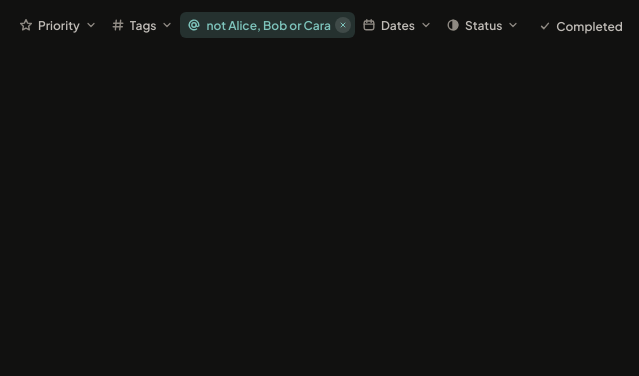
it: the top bar’s People picker: Email check-in for an "is not" filter › is not everyone: nobody to email, a hint
This screenshot has width=639, height=376.
Click the button with aria-label "People filter": [258, 25] box [180,12,335,38]
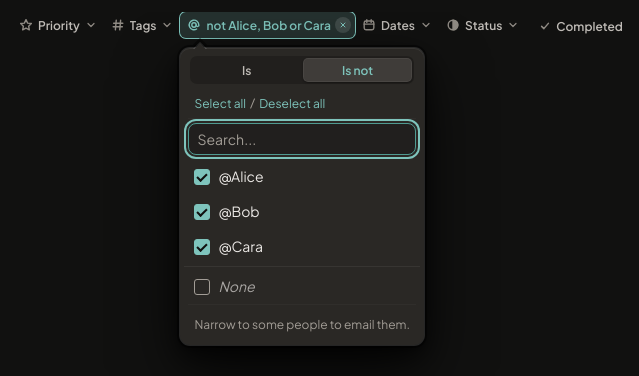
Result: the text "Narrow to some people to email them." is shown at [194,317,410,332]
